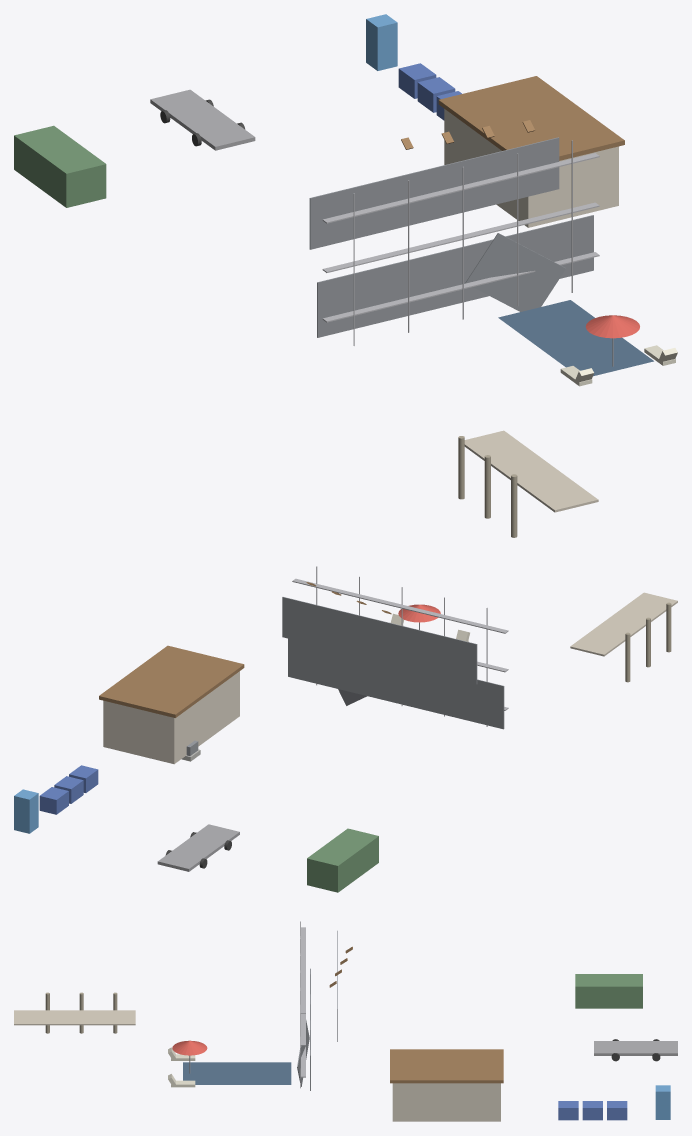
Rendered from casa-props.glb.
The picture shows the model from 3 angles, top to bottom: view 1: azimuth 30°, elevation 25°; view 2: azimuth 150°, elevation 25°; view 3: azimuth 270°, elevation 25°; orthographic projection. The views are drawn at different scales.
Parts seen in each view (by area): view 1: prep_on/shutter|MI_shutter, prep_off+storm_c1+storm_c3+storm_ts/shutter|MI_shutter, ren_after/roof|MI_soffit, ren_after/addition|MI_stucco, ren_during/scaffold|MI_scaffold, prep_on/cover|MI_poolcover, ren_during/dumpster|MI_dumpster, storm_c3/shutter|MI_shutter, ren_after/dock|MI_deck, prep_on/trailer|MI_steel, ren_during/materials|MI_tarp, ren_during/materials|MI_toilet (+3 smaller); view 2: prep_on/shutter|MI_shutter, prep_off+storm_c1+storm_c3+storm_ts/shutter|MI_shutter, ren_after/addition|MI_stucco, ren_after/roof|MI_soffit, ren_during/dumpster|MI_dumpster, ren_after/dock|MI_deck, prep_on/trailer|MI_steel, ren_during/materials|MI_tarp, ren_during/scaffold|MI_scaffold, ren_during/materials|MI_toilet, ren_after+ren_during/piling|MI_piling, prep_off/furniture|MI_umbrella; view 3: ren_after/addition|MI_stucco, ren_after/roof|MI_soffit, prep_on/cover|MI_poolcover, ren_during/dumpster|MI_dumpster, ren_after/dock|MI_deck, ren_during/materials|MI_tarp, prep_on/trailer|MI_steel, ren_during/scaffold|MI_scaffold, ren_during/materials|MI_toilet, prep_off/furniture|MI_canvas, prep_off/furniture|MI_umbrella, ren_after+ren_during/piling|MI_piling.
Boxes of the visible parts, x1,y1,x2,y2 form: prep_on/shutter|MI_shutter: (328,141,575,333); prep_off+storm_c1+storm_c3+storm_ts/shutter|MI_shutter: (309,137,593,337); ren_after/roof|MI_soffit: (438,76,624,160); ren_after/addition|MI_stucco: (444,109,618,227); ren_during/scaffold|MI_scaffold: (322,140,599,345); prep_on/cover|MI_poolcover: (498,300,653,376); ren_during/dumpster|MI_dumpster: (14,125,106,207); storm_c3/shutter|MI_shutter: (465,233,565,311); ren_after/dock|MI_deck: (464,430,598,512); prep_on/trailer|MI_steel: (150,89,255,150); ren_during/materials|MI_tarp: (398,63,461,120); ren_during/materials|MI_toilet: (366,14,397,70); prep_on/shutter|MI_shutter: (296,600,489,725); prep_off+storm_c1+storm_c3+storm_ts/shutter|MI_shutter: (282,597,504,729); ren_after/addition|MI_stucco: (103,671,239,764); ren_after/roof|MI_soffit: (99,645,244,717); ren_during/dumpster|MI_dumpster: (307,828,378,892); ren_after/dock|MI_deck: (570,592,677,656); prep_on/trailer|MI_steel: (157,824,239,871); ren_during/materials|MI_tarp: (39,765,98,814); ren_during/scaffold|MI_scaffold: (292,566,508,726); ren_during/materials|MI_toilet: (14,789,38,833); ren_after+ren_during/piling|MI_piling: (625,602,671,682); prep_off/furniture|MI_umbrella: (398,604,440,622); ren_after/addition|MI_stucco: (392,1083,500,1121); ren_after/roof|MI_soffit: (390,1049,503,1083); prep_on/cover|MI_poolcover: (183,1062,291,1084); ren_during/dumpster|MI_dumpster: (575,974,642,1008); ren_after/dock|MI_deck: (14,1010,135,1025); ren_during/materials|MI_tarp: (558,1101,627,1120); prep_on/trailer|MI_steel: (594,1041,677,1055); ren_during/scaffold|MI_scaffold: (300,921,305,1088); ren_during/materials|MI_toilet: (655,1085,670,1119); prep_off/furniture|MI_canvas: (168,1047,195,1087); prep_off/furniture|MI_umbrella: (172,1040,207,1055); ren_after+ren_during/piling|MI_piling: (45,992,117,1033).
Size of the model in its own units: 22.8 by 10.2 by 49.1.
